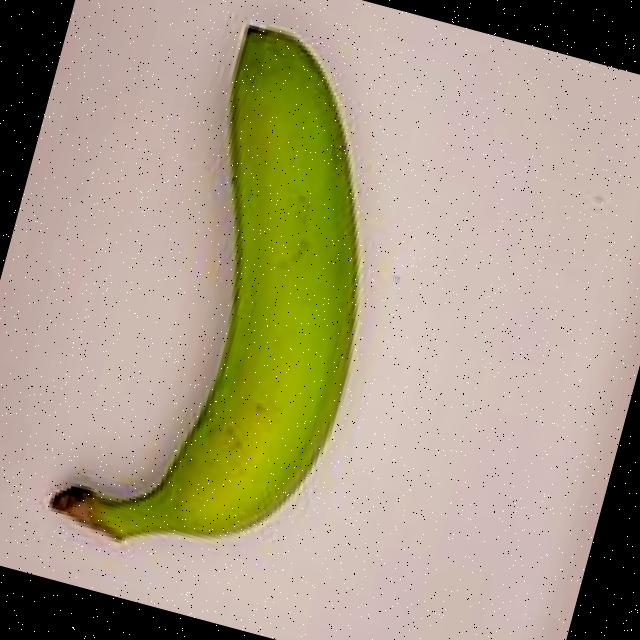Unripe: (0, 0, 482, 606)
